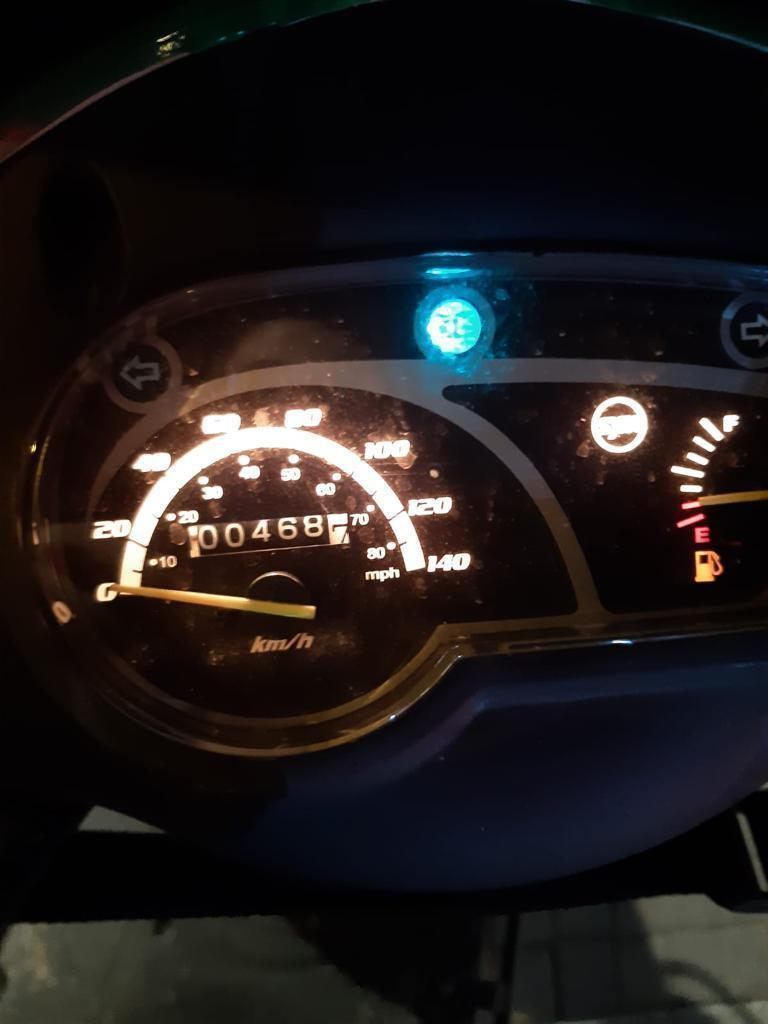0: (195, 523, 219, 550), (222, 522, 245, 548), (187, 511, 200, 523)
4: (250, 518, 272, 544)
6: (276, 516, 299, 541)
7: (330, 522, 349, 543)
8: (301, 513, 325, 538)
odometer: (184, 511, 351, 560)
